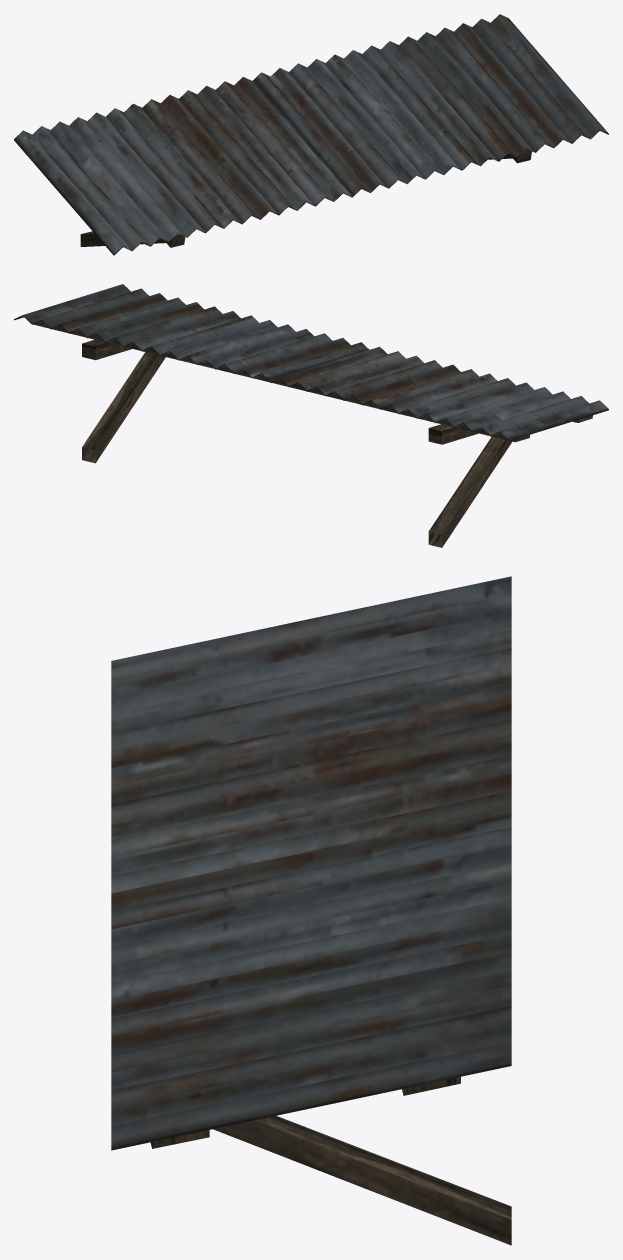
The model's file is roof_small_hr_3.fbx.
3 views of the same model, one above another, from view 1: azimuth 30°, elevation 25°; view 2: azimuth 150°, elevation 25°; view 3: azimuth 270°, elevation 25° (orthographic). The views are drawn at different scales.
Visible parts, largest first — view 1: roof_small_hr_3; view 2: roof_small_hr_3; view 3: roof_small_hr_3.
Boxes of the visible parts, x1,y1,x2,y2 form: roof_small_hr_3: (14, 14, 608, 255); roof_small_hr_3: (14, 284, 608, 547); roof_small_hr_3: (111, 576, 511, 1245).
Bounding box in the file's own units: 4 × 1.4 × 1.01.
